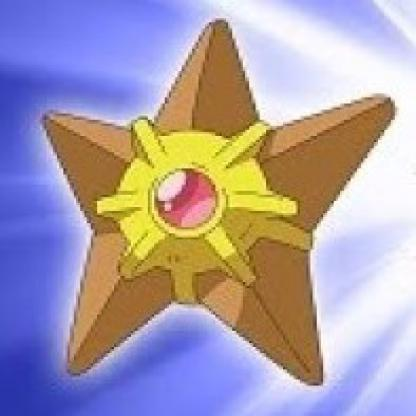Staryu: (37, 16, 397, 402)
